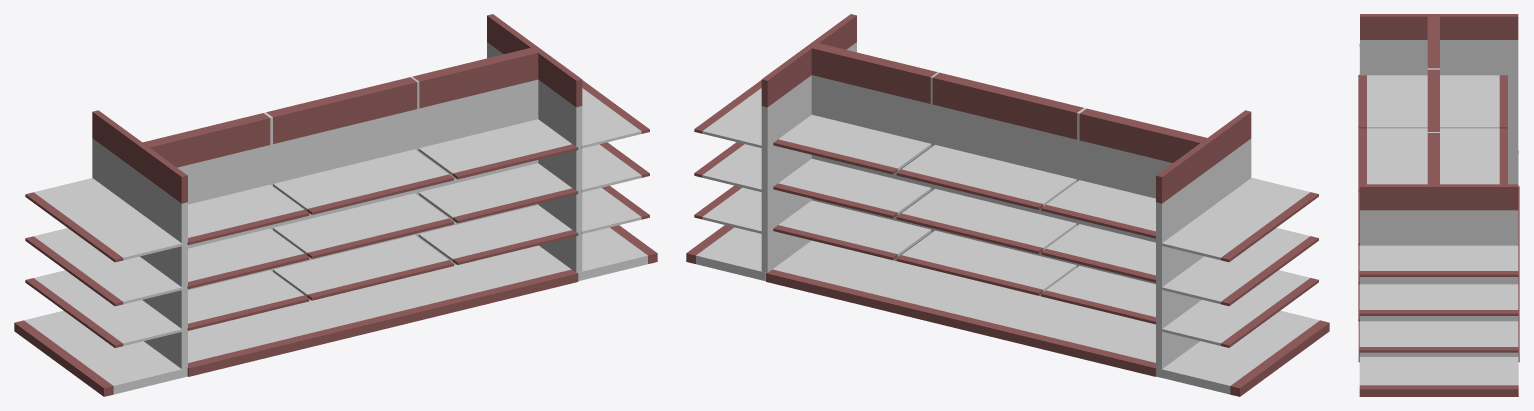
The model's file is Shelf 4.fbx.
3 renders of one model, left to right at view 1: azimuth 30°, elevation 25°; view 2: azimuth 150°, elevation 25°; view 3: azimuth 270°, elevation 25°, orthographic. The views are drawn at different scales.
Parts seen in each view (by area): view 1: pCube44, pCube41, pCube57, pCube58, pCube62, pCube59, pCube39, pCube43, pCube46, pCube60, pCube38, pCube40 (+9 smaller); view 2: pCube44, pCube56, pCube57, pCube58, pCube62, pCube59, pCube51, pCube54, pCube48, pCube60, pCube61, pCube47 (+9 smaller); view 3: pCube58, pCube57, pCube66, pCube65, pCube64, pCube63, pCube46, pCube54, pCube36, pCube55, pCube44, pCube56.
Part boxes in pixels (x1=…): pCube44: x1=142, y1=47, x2=538, y2=300; pCube41: x1=187, y1=245, x2=578, y2=376; pCube57: x1=92, y1=110, x2=187, y2=377; pCube58: x1=487, y1=14, x2=582, y2=272; pCube62: x1=14, y1=310, x2=183, y2=396; pCube59: x1=25, y1=178, x2=182, y2=262; pCube39: x1=273, y1=235, x2=453, y2=300; pCube43: x1=273, y1=193, x2=453, y2=258; pCube46: x1=273, y1=149, x2=453, y2=214; pCube60: x1=25, y1=228, x2=182, y2=306; pCube38: x1=418, y1=119, x2=578, y2=179; pCube40: x1=418, y1=205, x2=578, y2=264; pCube44: x1=811, y1=43, x2=1207, y2=296; pCube56: x1=766, y1=240, x2=1156, y2=376; pCube57: x1=1156, y1=110, x2=1251, y2=377; pCube58: x1=761, y1=14, x2=856, y2=272; pCube62: x1=1160, y1=310, x2=1329, y2=396; pCube59: x1=1161, y1=177, x2=1318, y2=262; pCube51: x1=896, y1=189, x2=1076, y2=253; pCube54: x1=896, y1=145, x2=1076, y2=209; pCube48: x1=896, y1=230, x2=1076, y2=295; pCube60: x1=1161, y1=228, x2=1318, y2=305; pCube61: x1=1161, y1=270, x2=1318, y2=347; pCube47: x1=773, y1=200, x2=931, y2=260; pCube58: x1=1360, y1=184, x2=1518, y2=356; pCube57: x1=1360, y1=14, x2=1518, y2=184; pCube66: x1=1359, y1=355, x2=1518, y2=396; pCube65: x1=1359, y1=321, x2=1518, y2=352; pCube64: x1=1359, y1=284, x2=1518, y2=315; pCube63: x1=1359, y1=245, x2=1518, y2=276; pCube46: x1=1358, y1=128, x2=1427, y2=191; pCube54: x1=1440, y1=128, x2=1507, y2=184; pCube36: x1=1358, y1=75, x2=1427, y2=128; pCube55: x1=1440, y1=75, x2=1507, y2=128; pCube44: x1=1427, y1=16, x2=1439, y2=184; pCube56: x1=1518, y1=186, x2=1519, y2=362.
Size of the model in its own units: 8.92 by 3.1 by 2.54.
